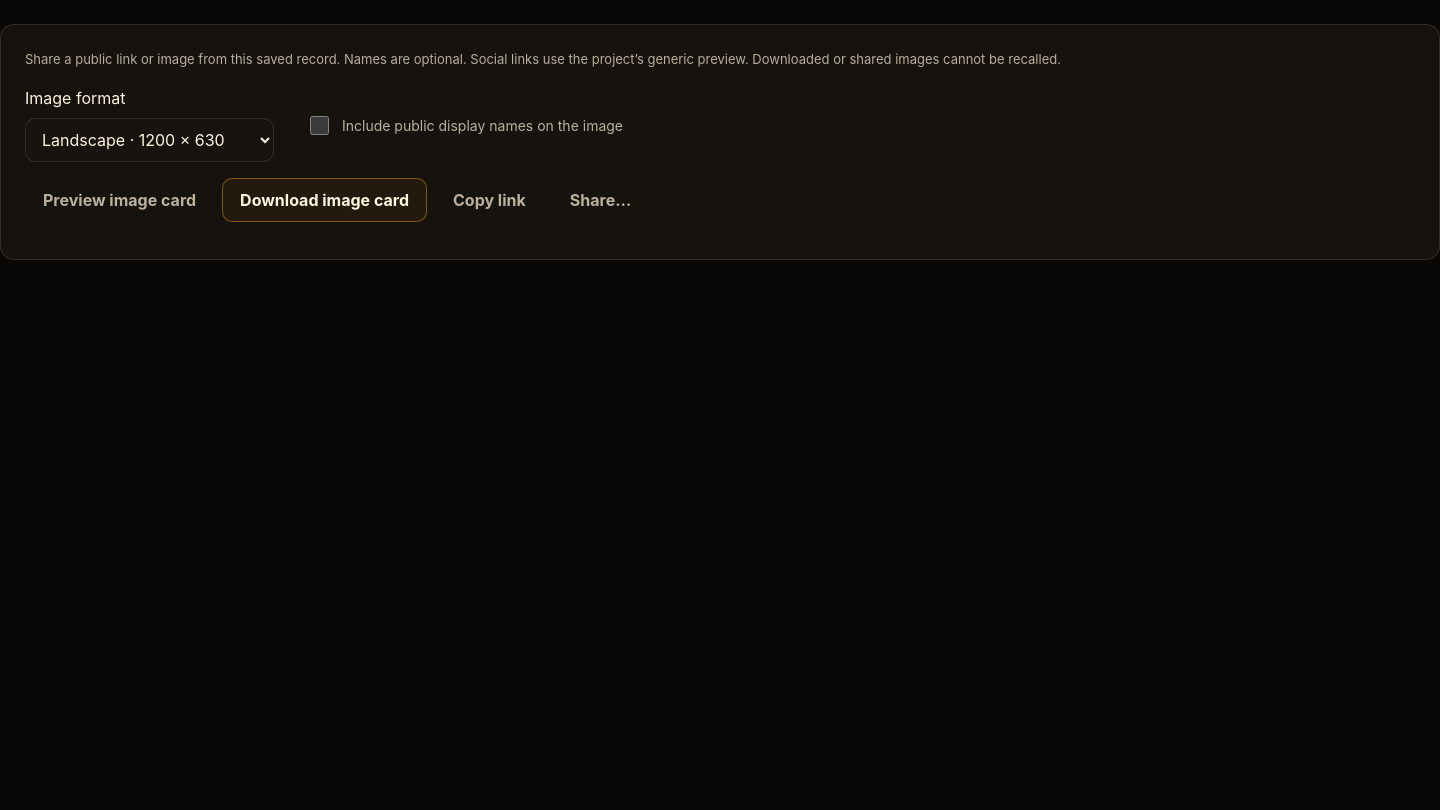
it: shares the prepared PNG when file sharing is supported and preserves cancellation
Click the button "Share…": (600, 200) [552, 178, 649, 222]
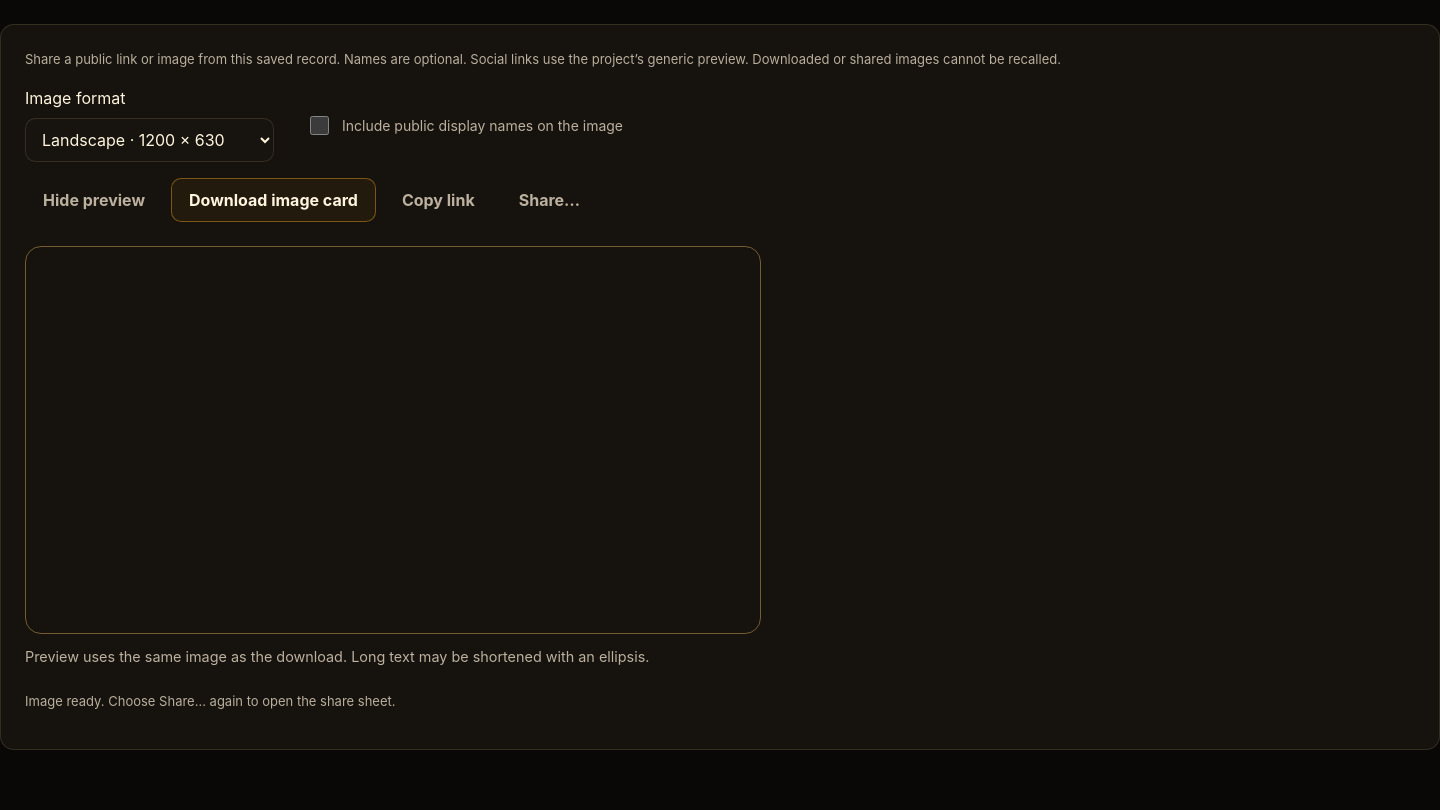
expect the message shows "Image ready.": met, box [25, 693, 396, 709]
Click the button "Share…": (549, 200) [501, 178, 598, 222]
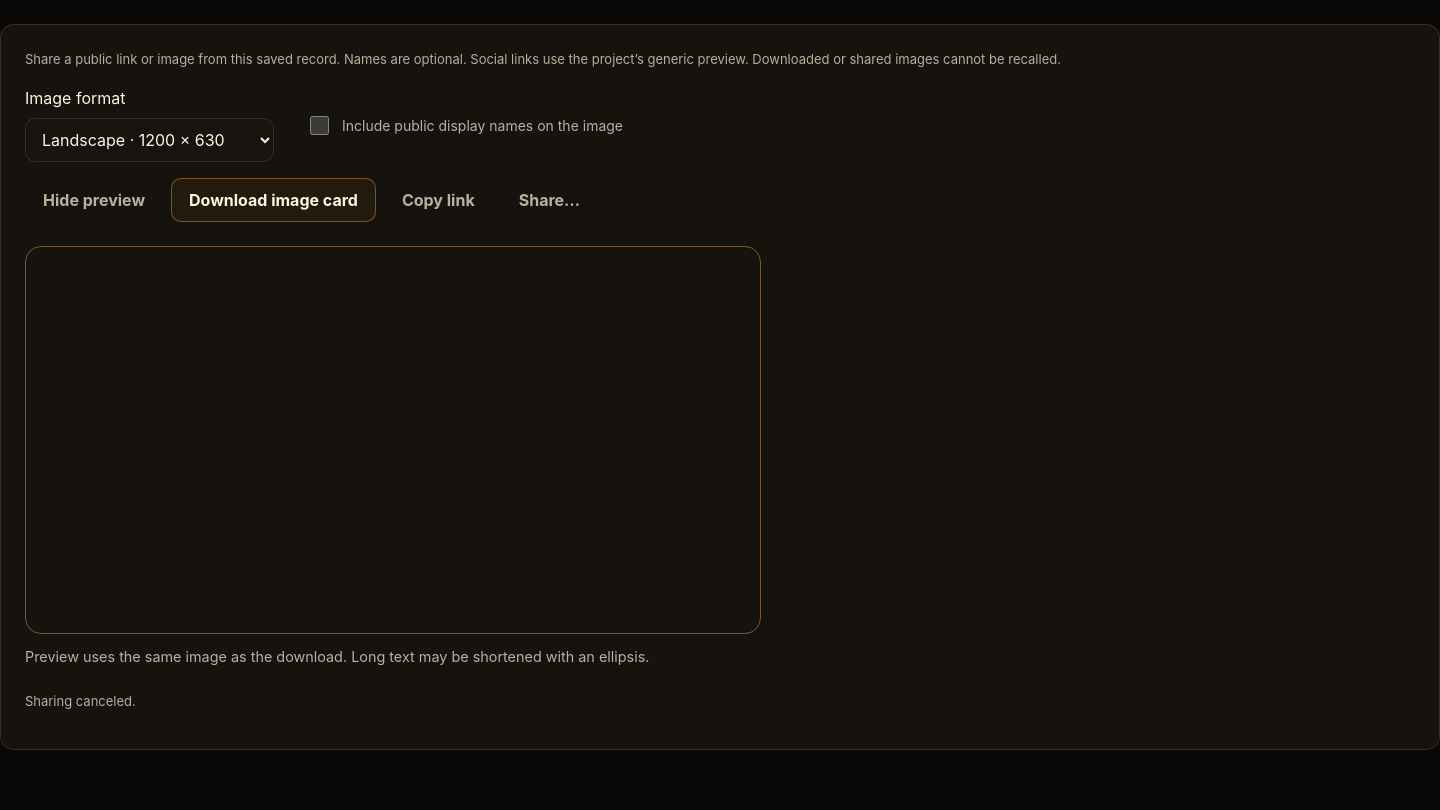
expect the message reads "Sharing canceled.": met, box [25, 693, 136, 709]
